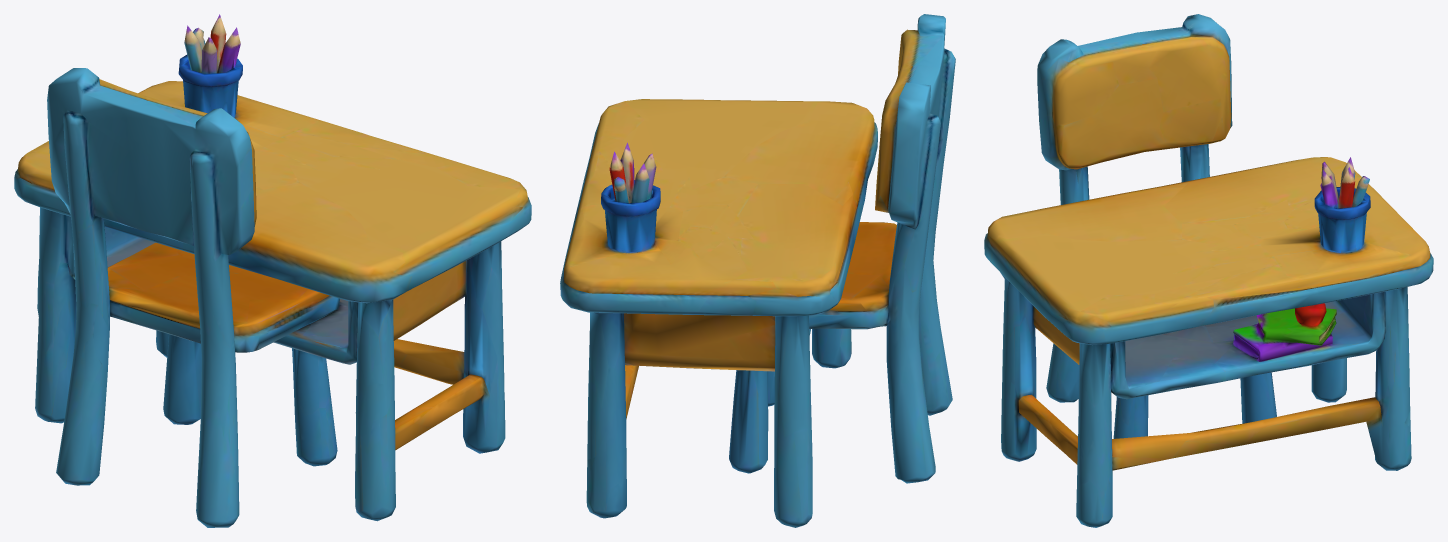
The model's file is desk.glb.
The picture shows the model from 3 angles, left to right: view 1: azimuth 30°, elevation 25°; view 2: azimuth 150°, elevation 25°; view 3: azimuth 270°, elevation 25°; orthographic projection. The views are drawn at different scales.
Parts seen in each view (by area): view 1: tripo_node_73928857-1402-498a-97cc-80a337130305; view 2: tripo_node_73928857-1402-498a-97cc-80a337130305; view 3: tripo_node_73928857-1402-498a-97cc-80a337130305.
Boxes of the visible parts, <box> form: tripo_node_73928857-1402-498a-97cc-80a337130305: <box>14,14,531,527</box>; tripo_node_73928857-1402-498a-97cc-80a337130305: <box>560,14,955,527</box>; tripo_node_73928857-1402-498a-97cc-80a337130305: <box>984,14,1433,527</box>.
Size of the model in its own units: 0.8131 by 0.8 by 0.9021.
Materials: 1 (1 with a texture image).
